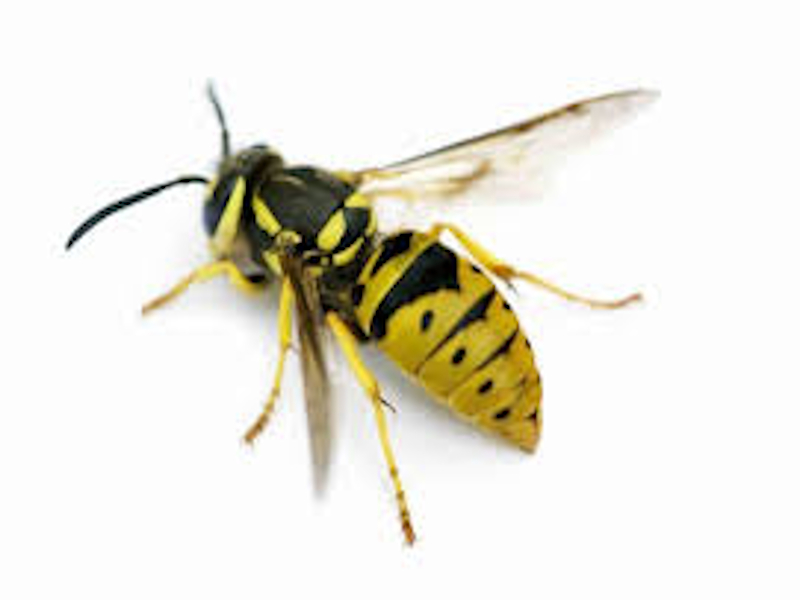chax: (65, 64, 730, 566)
